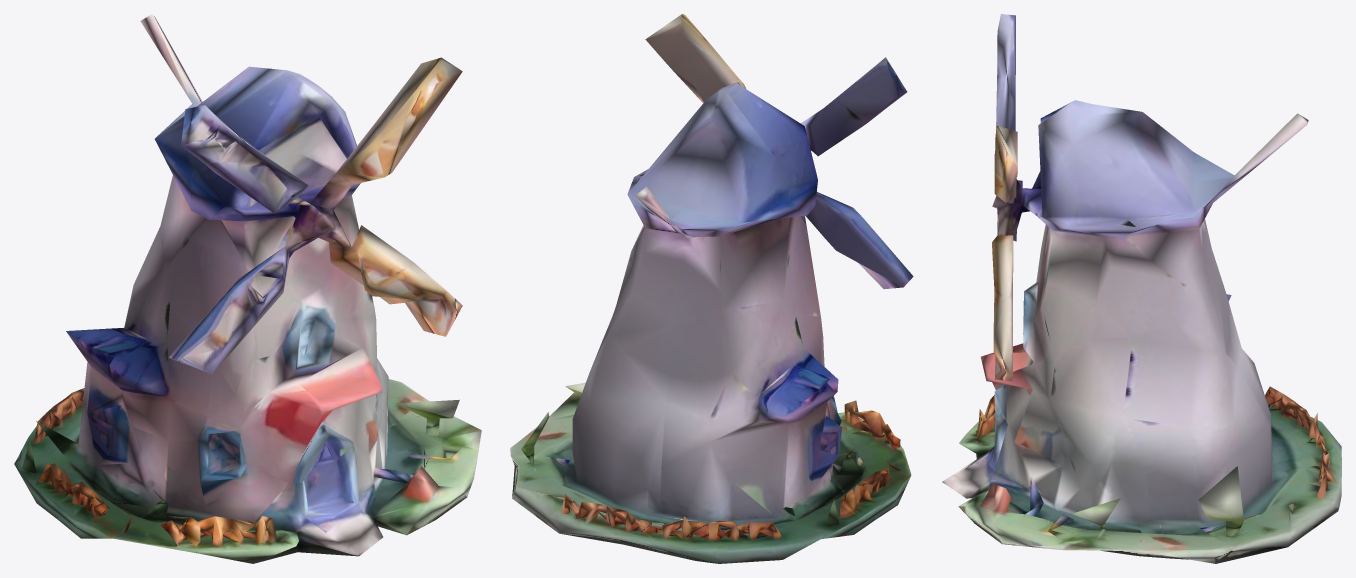
Rendered from house_windmill_small.glb.
3 views of the same model, side by side, from view 1: azimuth 30°, elevation 25°; view 2: azimuth 150°, elevation 25°; view 3: azimuth 270°, elevation 25° (orthographic). The views are drawn at different scales.
Visible parts, largest first — view 1: tripo_node_df119c0d-676f-43dd-919a-78fda728f737; view 2: tripo_node_df119c0d-676f-43dd-919a-78fda728f737; view 3: tripo_node_df119c0d-676f-43dd-919a-78fda728f737.
Part boxes in pixels (box(x1,y1,x2,y2)): tripo_node_df119c0d-676f-43dd-919a-78fda728f737: box(14, 14, 481, 563); tripo_node_df119c0d-676f-43dd-919a-78fda728f737: box(510, 14, 913, 563); tripo_node_df119c0d-676f-43dd-919a-78fda728f737: box(942, 14, 1341, 563).
Size of the model in its own units: 0.8611 by 0.9699 by 0.8486.
1 material, 1 textured.
